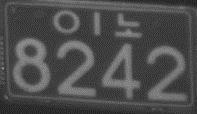0: (51, 8, 80, 35)
1: (86, 12, 108, 36)
2: (145, 43, 189, 103), (55, 38, 98, 98)
4: (100, 42, 140, 99)
8: (11, 36, 50, 94)
노: (114, 11, 141, 37)
